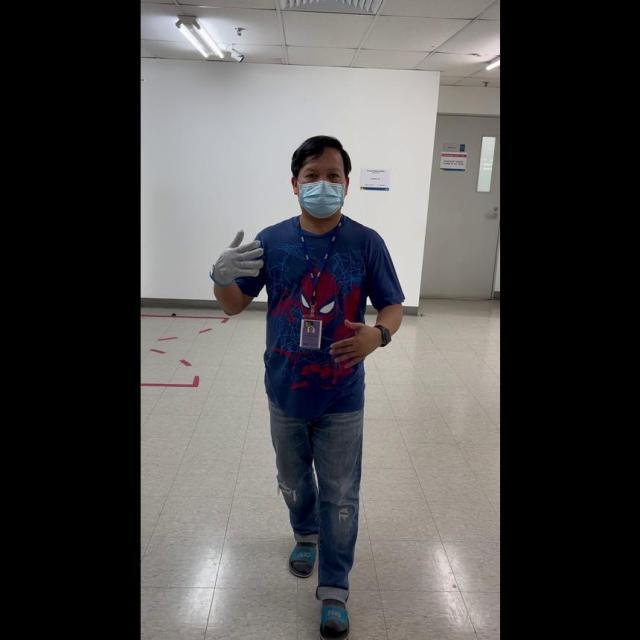bare_hand: (327, 315, 383, 362)
gloved_hand: (208, 224, 266, 289)
